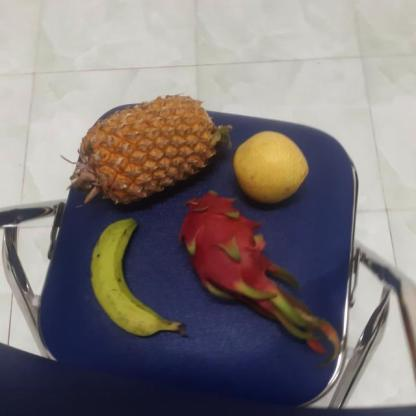banana: (87, 214, 183, 339)
pear: (231, 129, 313, 204)
pineapple: (76, 92, 226, 208)
pitaya: (178, 191, 274, 297)
